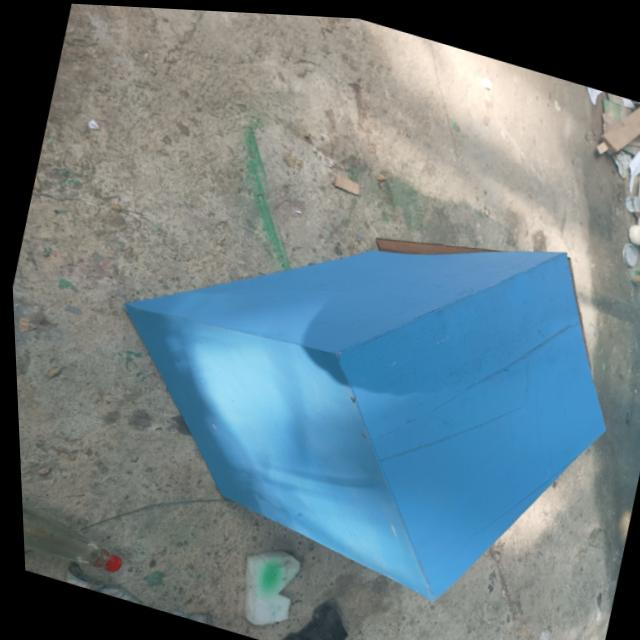blue_box: (63, 125, 640, 640)
